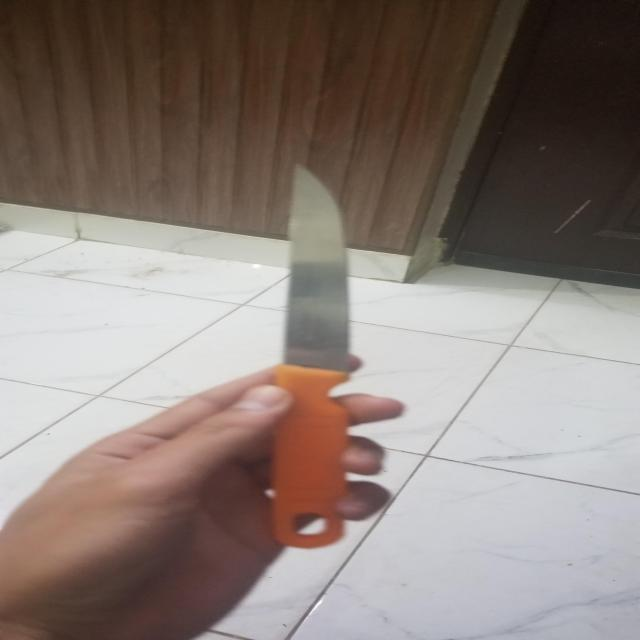Knife: (272, 161, 351, 545)
Person: (0, 347, 412, 640)
